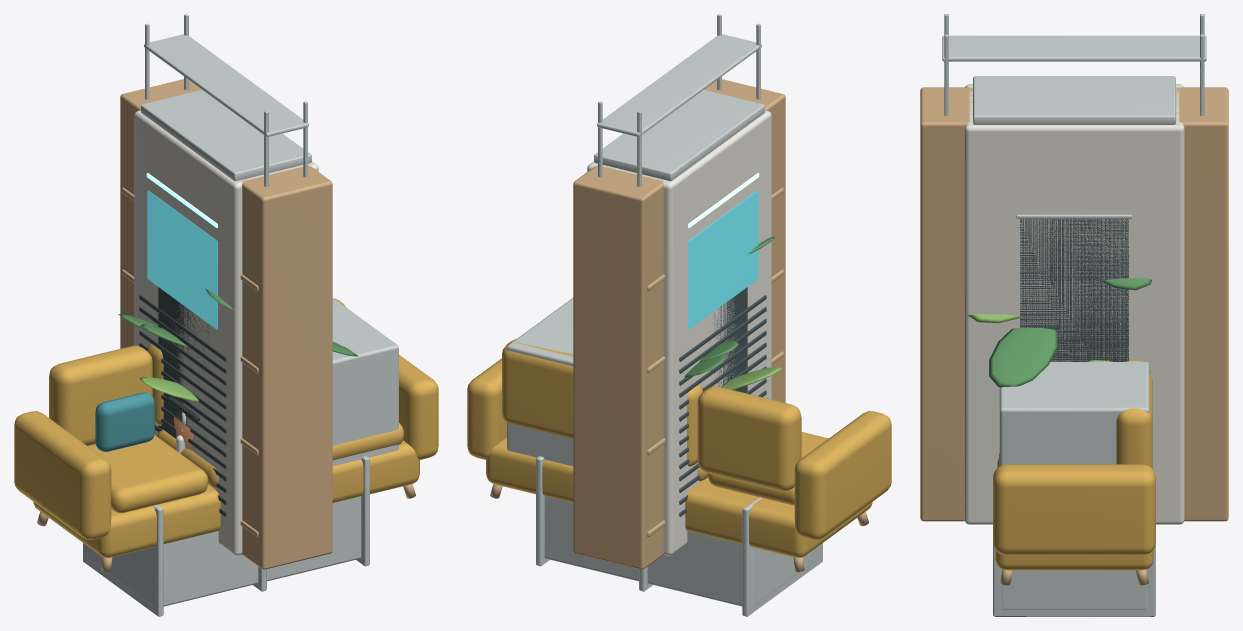
Rendered from office-kit.glb.
3 views of the same model, side by side, from view 1: azimuth 30°, elevation 25°; view 2: azimuth 150°, elevation 25°; view 3: azimuth 270°, elevation 25° (orthographic). The views are drawn at different scales.
Parts seen in each view (by area): view 1: Bookshelf_Oak, Sofa_Mustard, Cooling_Porcelain, Duct_Aluminium, Cooling_Aluminium, Shelving_Aluminium, Cooling_Screen, Cooling_Graphite, Sofa_Teal, Rack_Graphite, Plant_Leaf, Plant_LeafLight; view 2: Bookshelf_Oak, Sofa_Mustard, Cooling_Porcelain, Duct_Aluminium, Cooling_Aluminium, Shelving_Aluminium, Cooling_Screen, Cooling_Graphite, Rack_Graphite, Plant_Leaf, Plant_LeafLight; view 3: Cooling_Porcelain, Bookshelf_Oak, Duct_Aluminium, Sofa_Mustard, Rack_Graphite, Cooling_Aluminium, Shelving_Aluminium, Plant_Leaf, Rack_Aluminium.
Part boxes in pixels (x1,y1,x2,y2): Bookshelf_Oak: (120,79,332,569); Sofa_Mustard: (14,298,438,557); Cooling_Porcelain: (134,110,318,555); Duct_Aluminium: (83,298,398,616); Cooling_Aluminium: (141,90,311,181); Shelving_Aluminium: (144,14,308,186); Cooling_Screen: (147,190,217,329); Cooling_Graphite: (139,295,226,516); Sofa_Teal: (95,392,154,451); Rack_Graphite: (158,287,208,438); Plant_Leaf: (118,289,358,401); Plant_LeafLight: (139,377,199,401); Bookshelf_Oak: (573,79,785,569); Sofa_Mustard: (467,339,891,557); Cooling_Porcelain: (587,110,771,555); Duct_Aluminium: (507,298,822,616); Cooling_Aluminium: (594,90,764,181); Shelving_Aluminium: (597,14,761,186); Cooling_Screen: (688,190,758,329); Cooling_Graphite: (679,295,766,516); Rack_Graphite: (710,287,747,392); Plant_Leaf: (684,236,774,377); Plant_LeafLight: (722,366,781,389); Cooling_Porcelain: (964,84,1184,524); Bookshelf_Oak: (920,87,1228,521); Duct_Aluminium: (993,362,1155,616); Sofa_Mustard: (993,361,1155,570); Rack_Graphite: (1020,219,1128,361); Cooling_Aluminium: (973,76,1175,124); Shelving_Aluminium: (942,14,1206,115); Plant_Leaf: (989,278,1151,387); Rack_Aluminium: (1016,214,1132,218).
Bounding box in the file's own units: 10.05 × 13.45 × 7.
